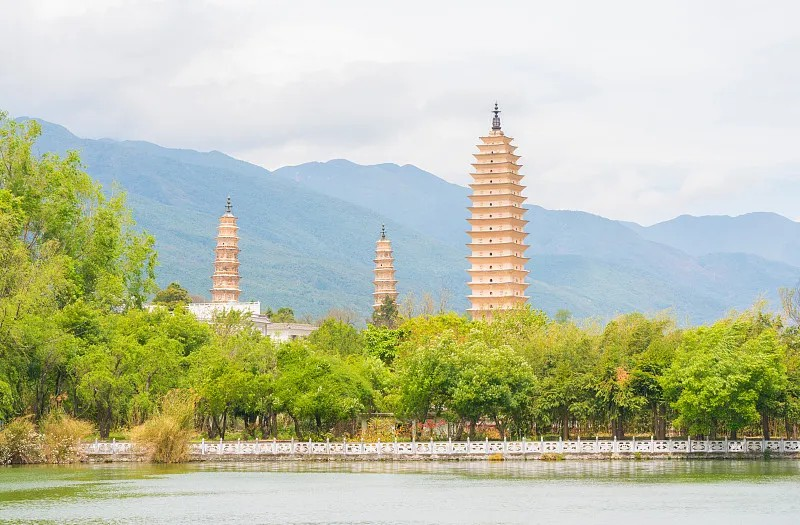ThreePagoda: (467, 100, 530, 320)
